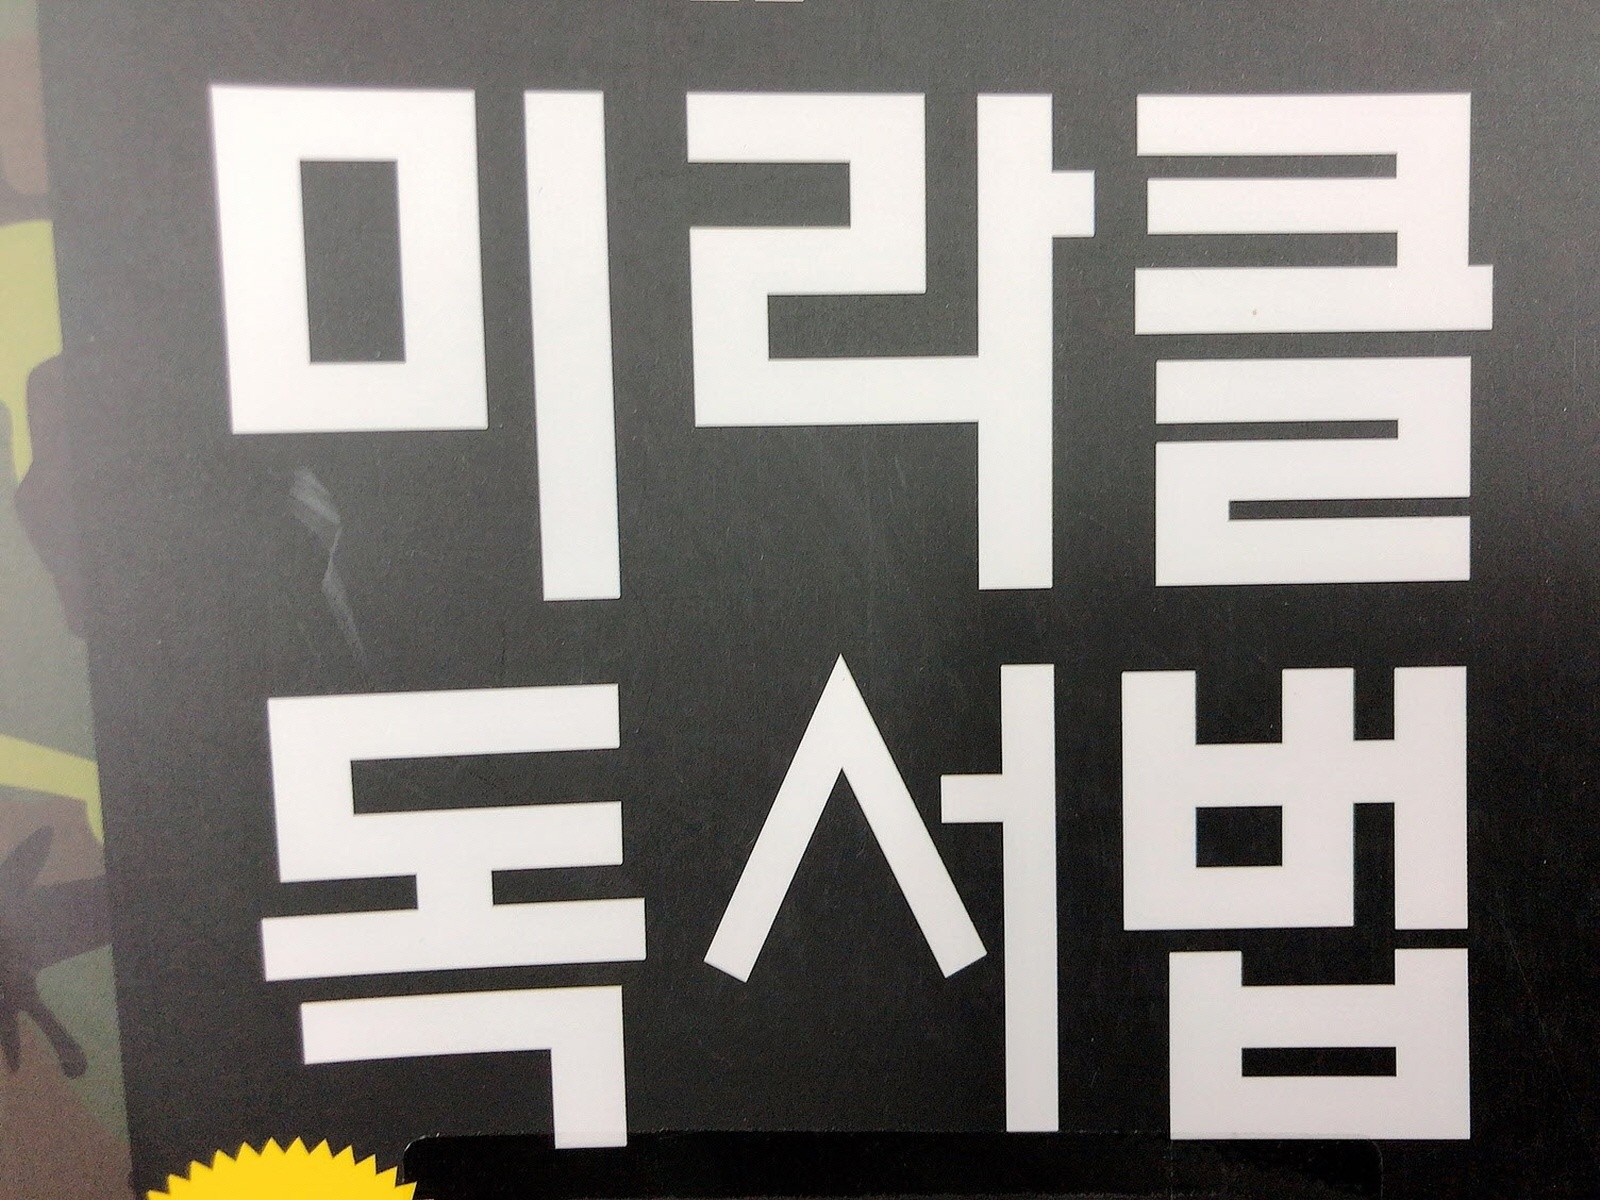text: (165, 49, 1537, 632), (197, 639, 1527, 1184)
